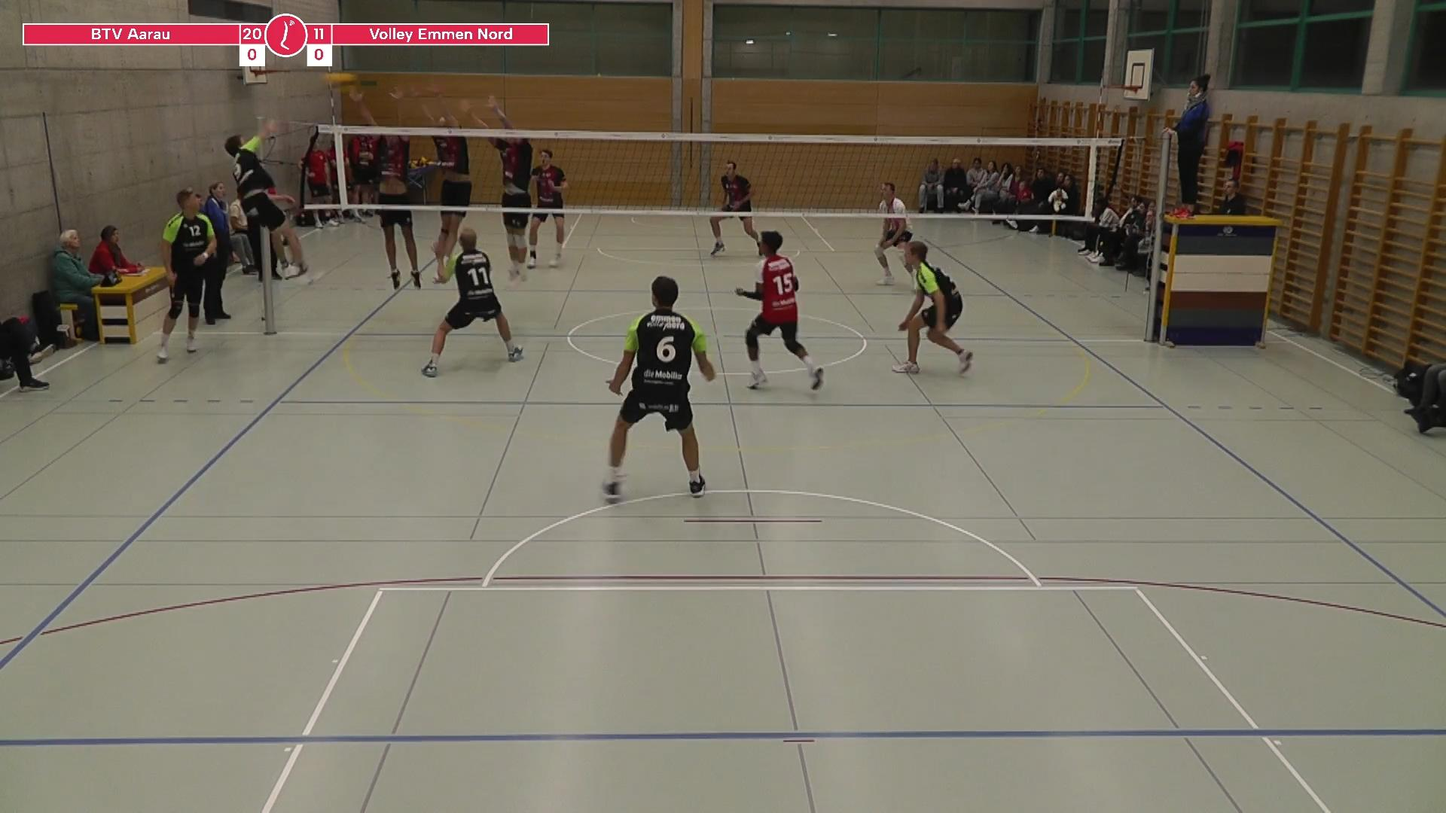attacco: (223, 114, 327, 289)
muro: (356, 87, 426, 295), (474, 88, 540, 295), (413, 93, 477, 290)
